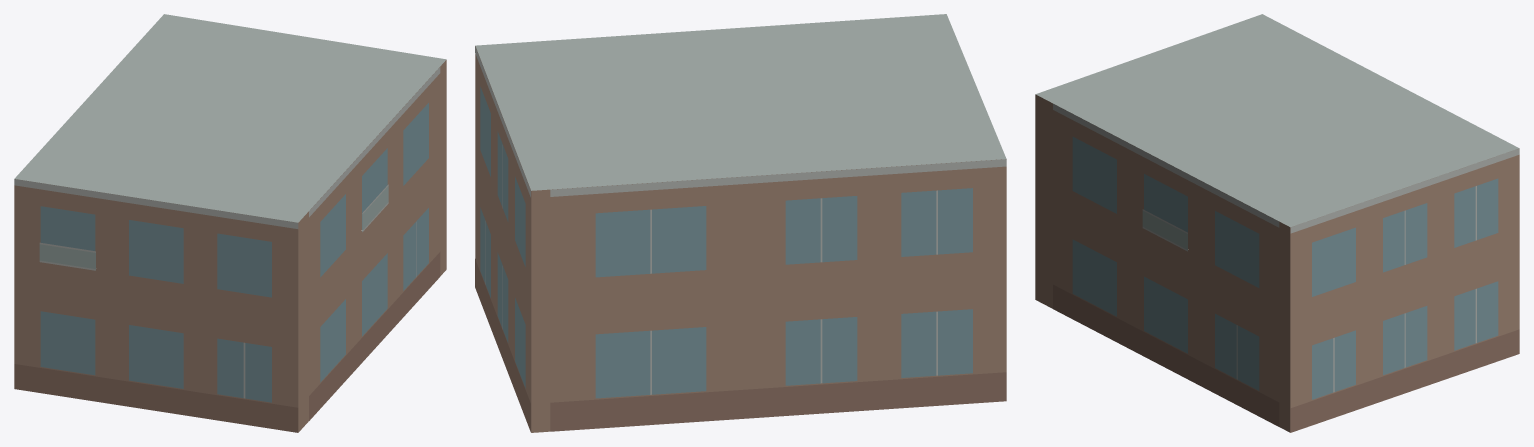
The model's file is survey-upis-32746883.glb.
The picture shows the model from 3 angles, left to right: view 1: azimuth 30°, elevation 25°; view 2: azimuth 150°, elevation 25°; view 3: azimuth 270°, elevation 25°; orthographic projection. The views are drawn at different scales.
Visible parts, largest first — view 1: survey-upis-32746883.tmp; view 2: survey-upis-32746883.tmp; view 3: survey-upis-32746883.tmp.
Part boxes in pixels (x1,y1,x2,y2): survey-upis-32746883.tmp: (14, 14, 446, 432); survey-upis-32746883.tmp: (475, 14, 1006, 432); survey-upis-32746883.tmp: (1035, 14, 1519, 432).
Bounding box in the file's own units: 17.59 × 7.9 × 16.87.
